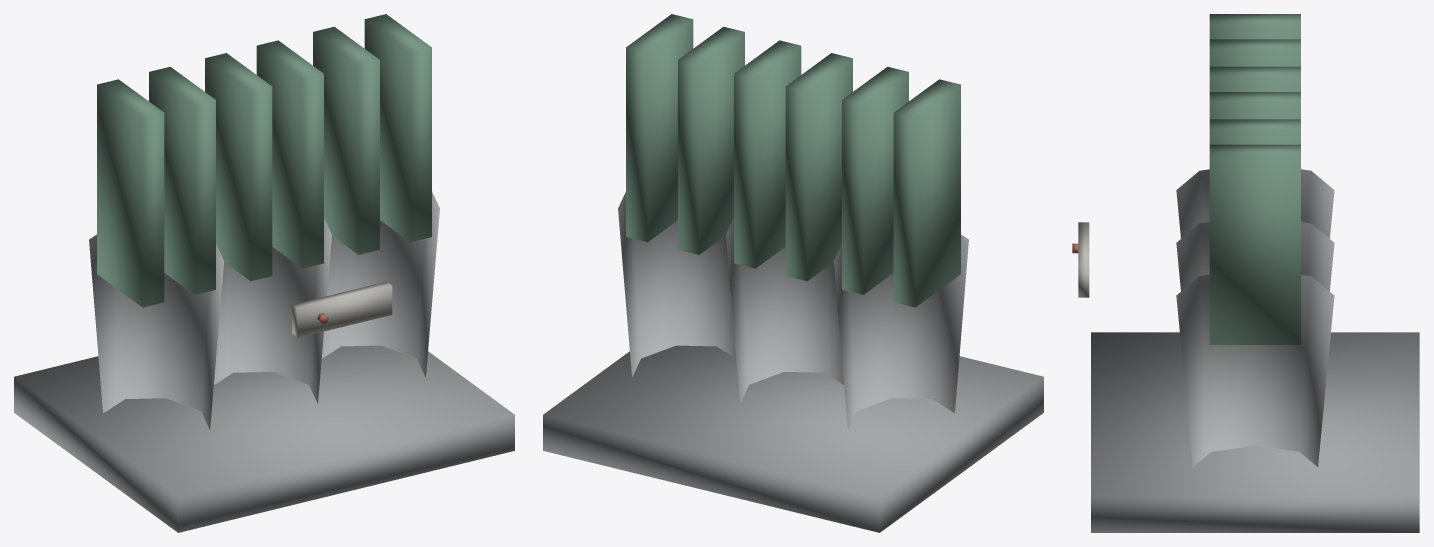
The model's file is flower_bucket_rack__deep.glb.
3 renders of one model, left to right at view 1: azimuth 30°, elevation 25°; view 2: azimuth 150°, elevation 25°; view 3: azimuth 270°, elevation 25°, orthographic.
Parts seen in each view (by area): view 1: world; view 2: world; view 3: world.
Part boxes in pixels (bbox=[...]): world: bbox=[14, 14, 514, 532]; world: bbox=[543, 14, 1043, 532]; world: bbox=[1072, 14, 1419, 532].
Size of the model in its own units: 0.78 by 0.81 by 0.6966.
